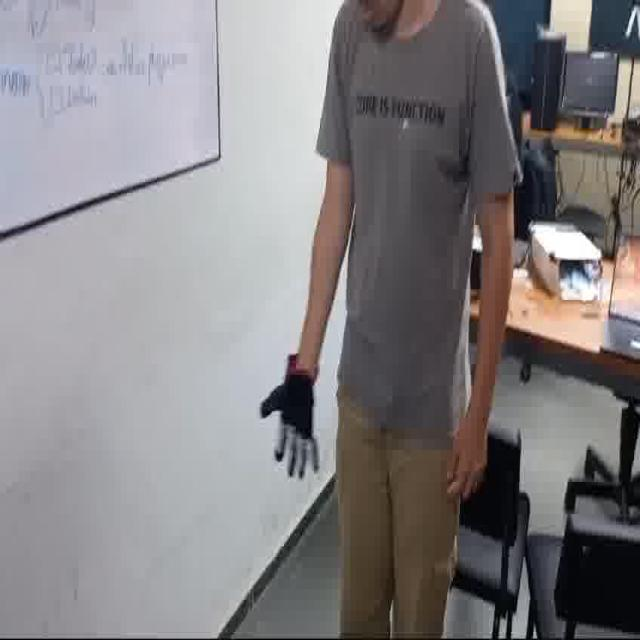Gloves: (259, 352, 320, 481)
